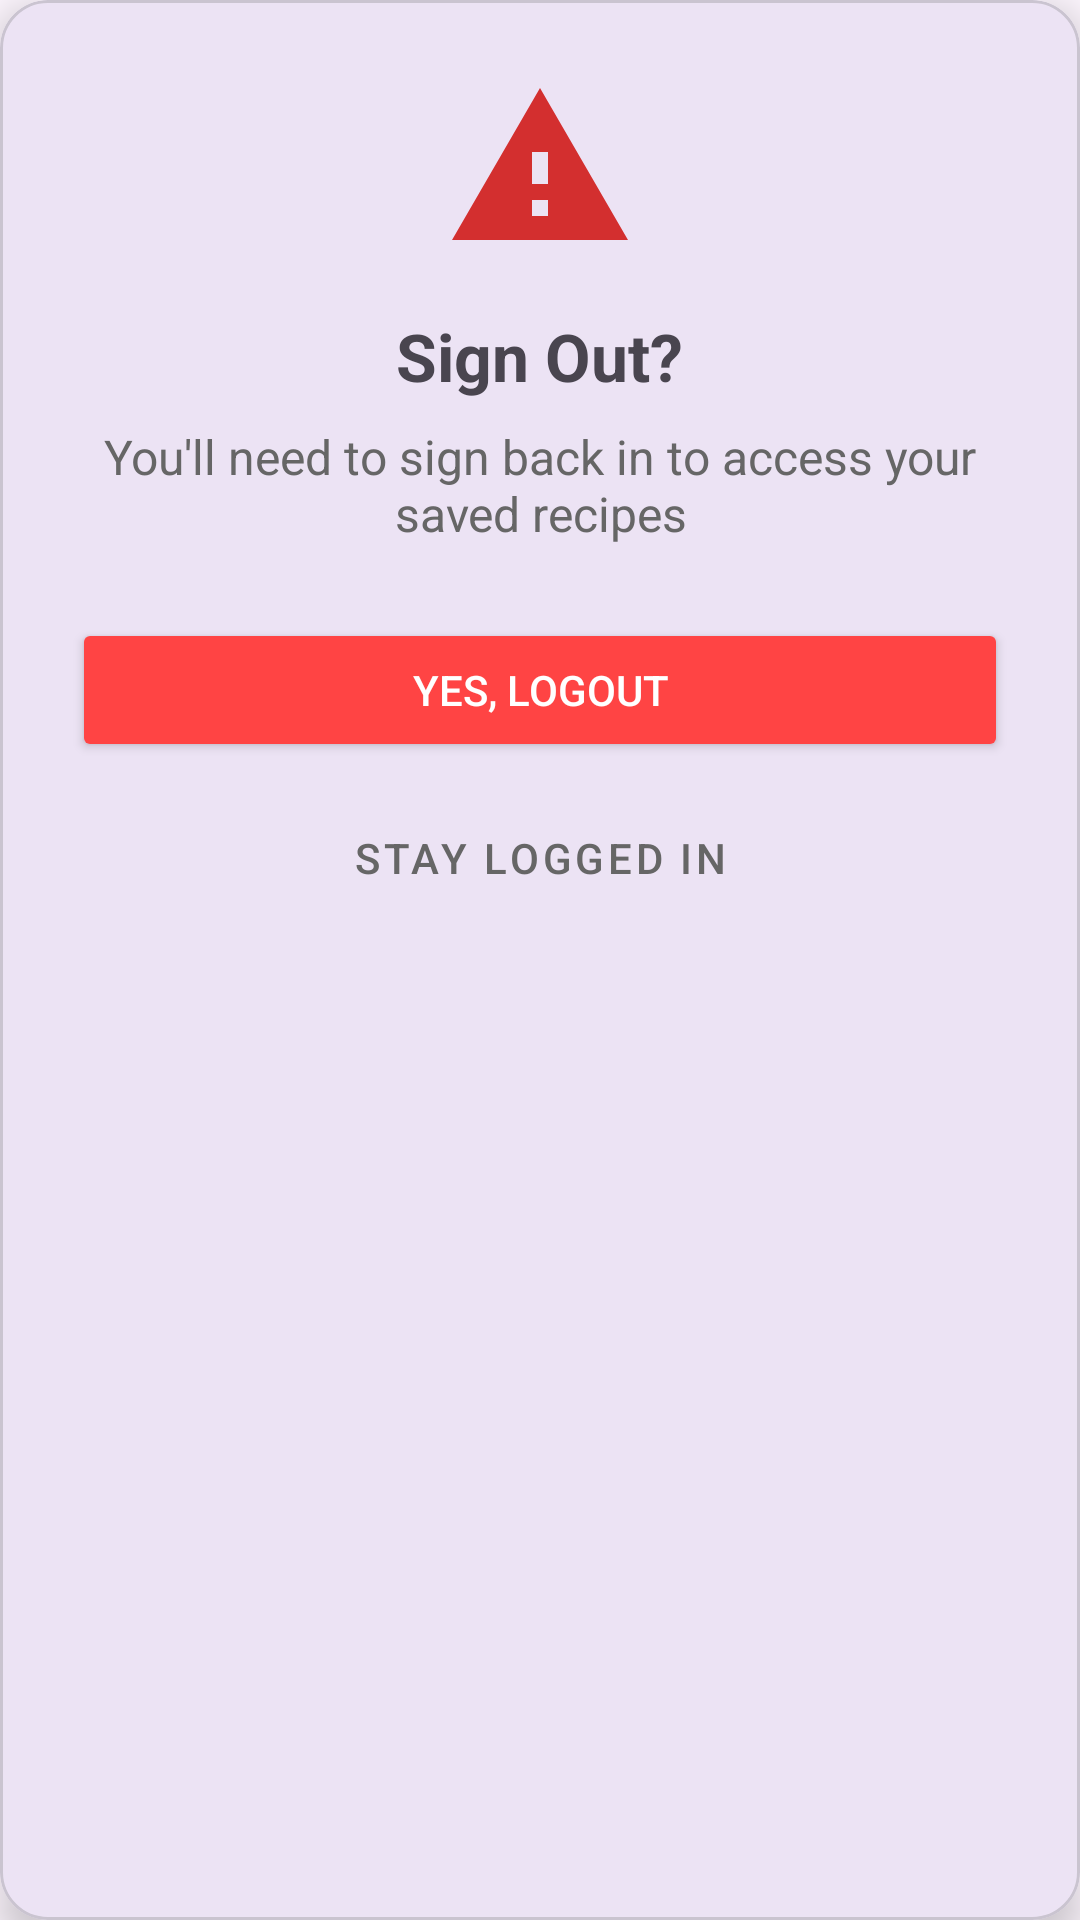

Screen size 1080 x 1920. Icon name, then its center in pixels as (x=x, y=y):
warning: (x=540, y=164)
